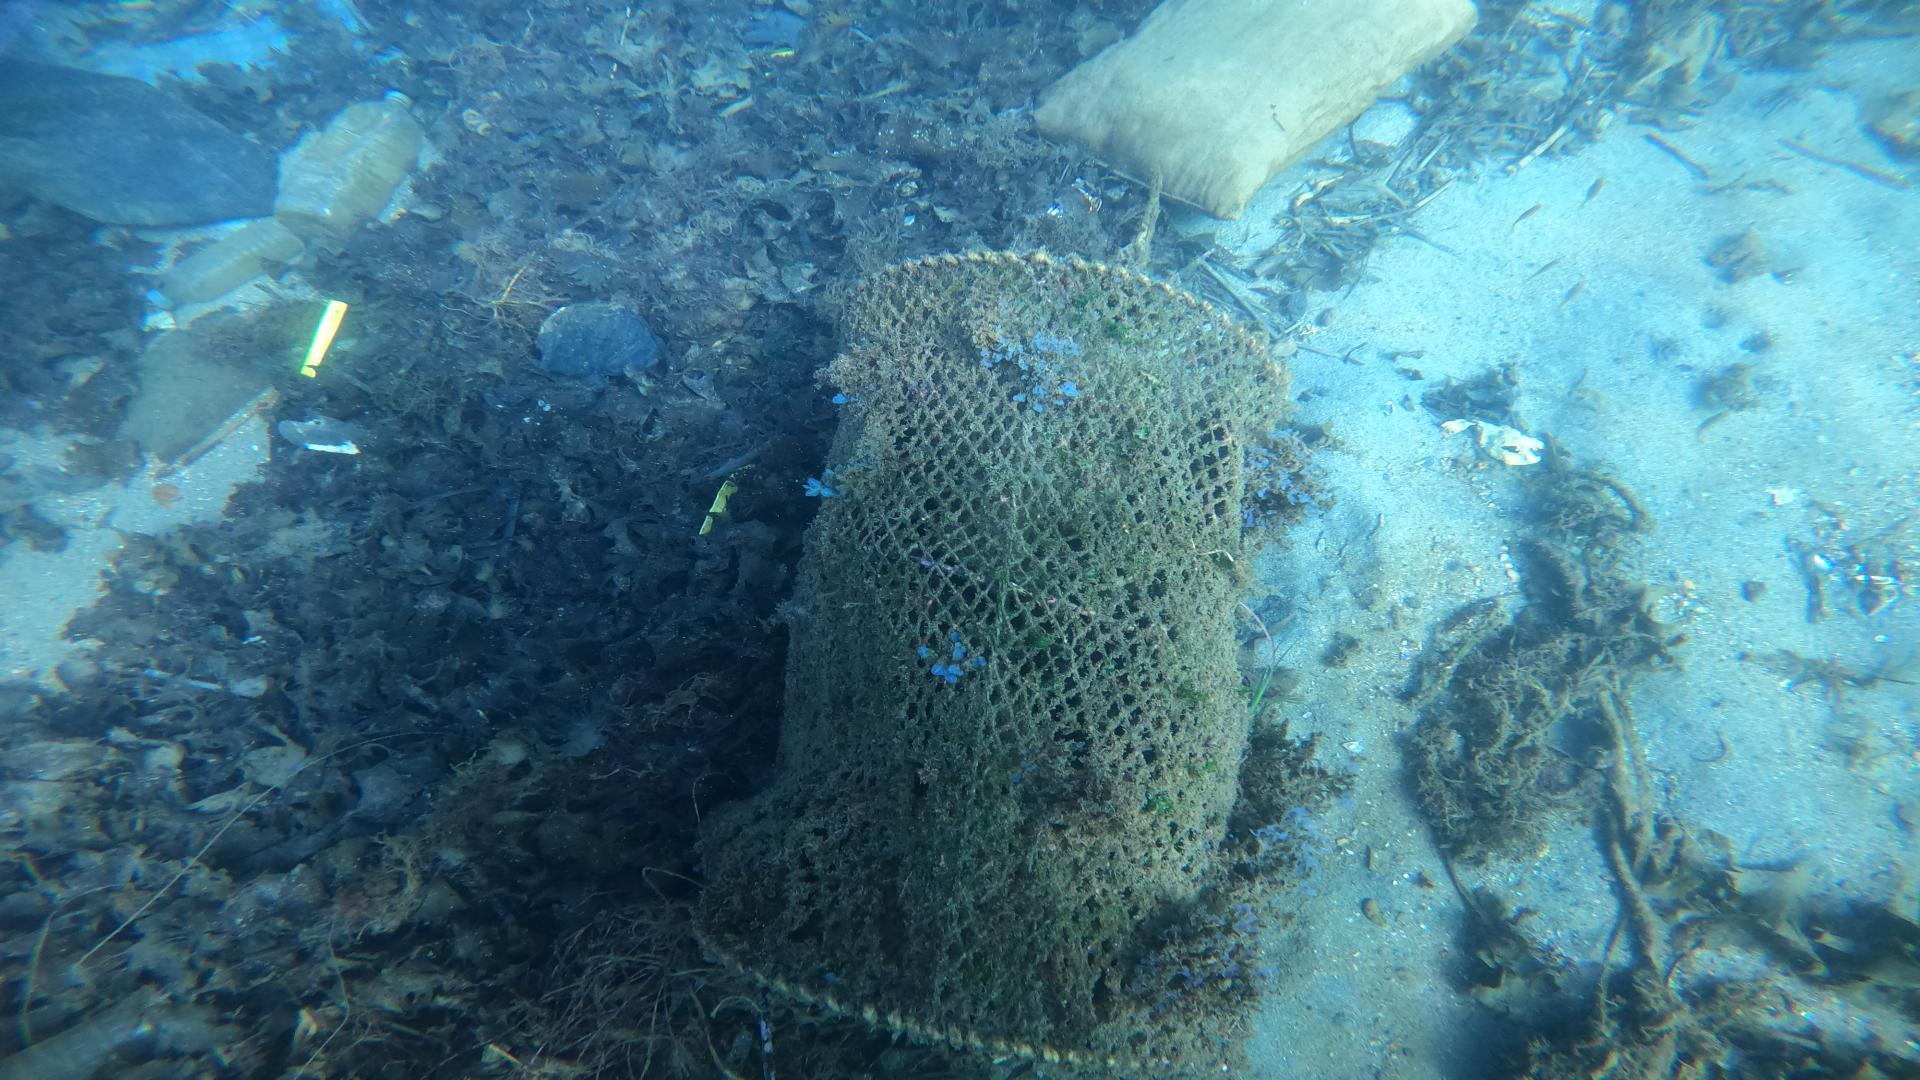spring fish trap: (682, 248, 1294, 1080)
